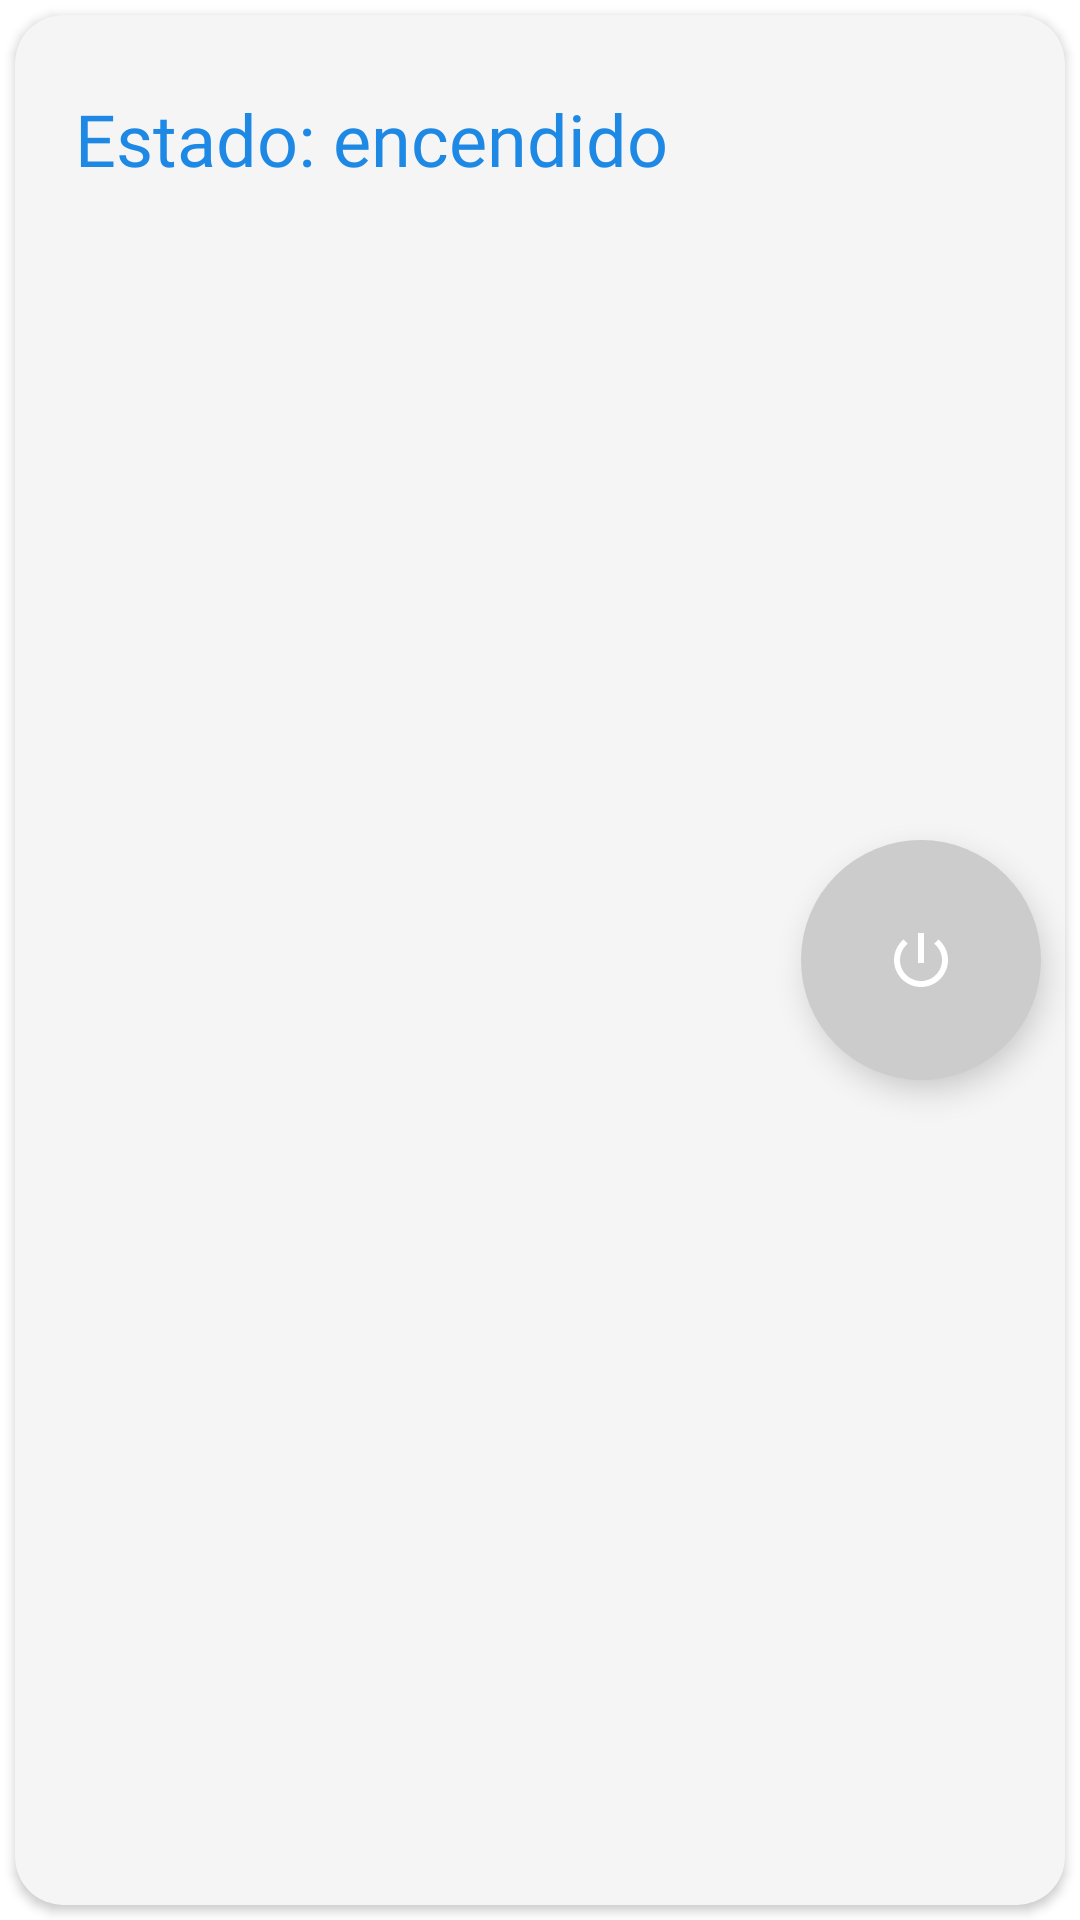

Screen size 1080x1920. Icon name, then its box in pixels as [x1, y1, x2, y2]:
power settings: [801, 840, 1041, 1080]
